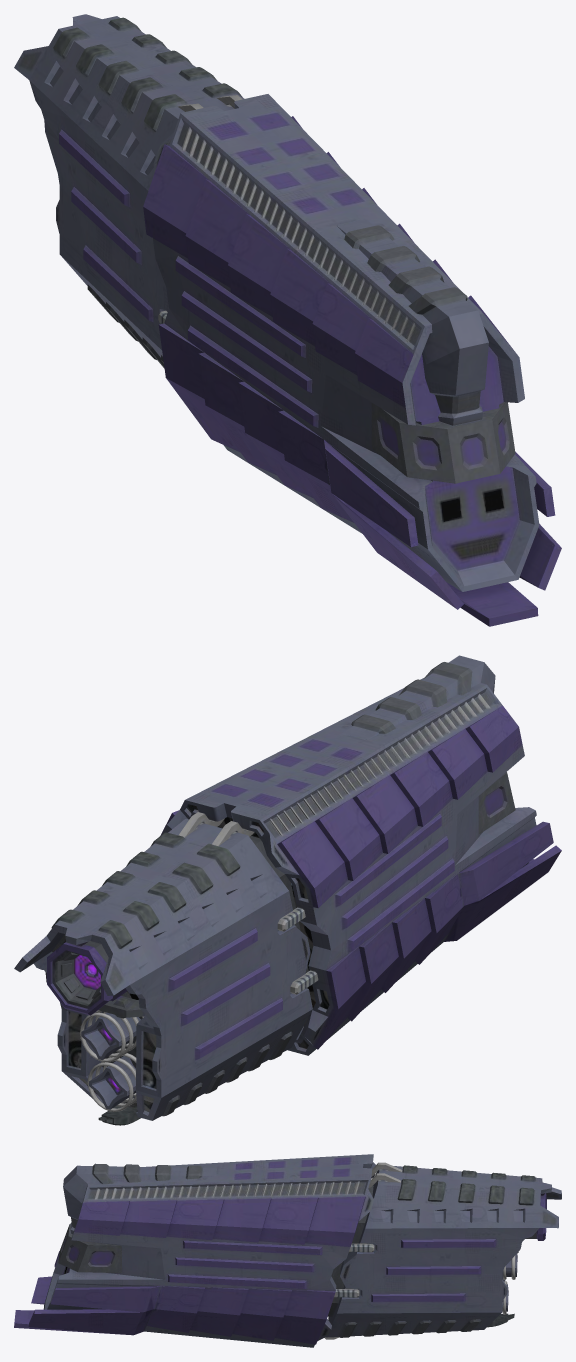
File: mother-1-2.glb
3 renders of one model, top to bottom at view 1: azimuth 30°, elevation 25°; view 2: azimuth 150°, elevation 25°; view 3: azimuth 270°, elevation 25°, orthographic. The views are drawn at different scales.
Visible parts, largest first — view 1: mother-1-2_0; view 2: mother-1-2_0, mother-1-2_1; view 3: mother-1-2_0.
Part boxes in pixels (x1,y1,x2,y2): mother-1-2_0: (14,14,561,626); mother-1-2_0: (14,655,561,1125); mother-1-2_1: (80,1010,143,1111); mother-1-2_0: (14,1154,561,1347).
Size of the model in its own units: 0.2217 by 0.3441 by 1.
2 materials, 2 textured.
